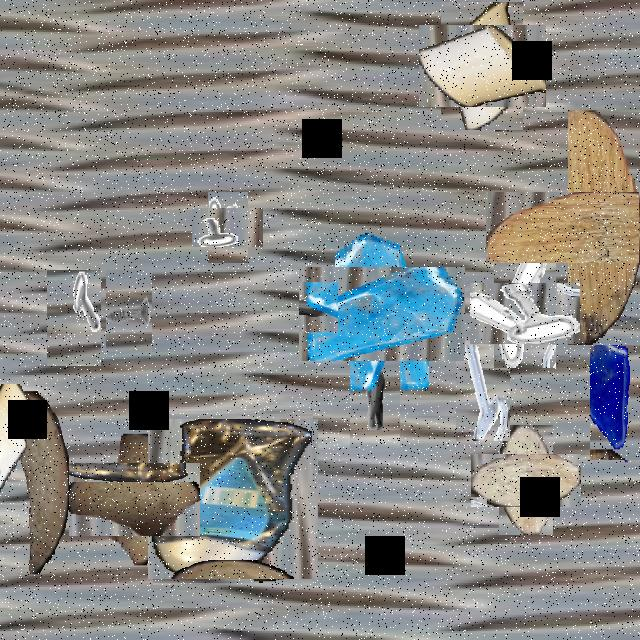glass: (317, 249, 447, 380), (590, 336, 640, 460)
metal: (482, 270, 568, 356), (456, 345, 510, 441), (47, 270, 101, 366), (350, 359, 400, 448), (106, 270, 152, 352), (200, 200, 256, 255)
plastic: (150, 417, 316, 582), (430, 13, 534, 118), (0, 384, 40, 576)
wood: (527, 150, 640, 304), (0, 391, 69, 573), (84, 448, 186, 551), (485, 439, 567, 521)
